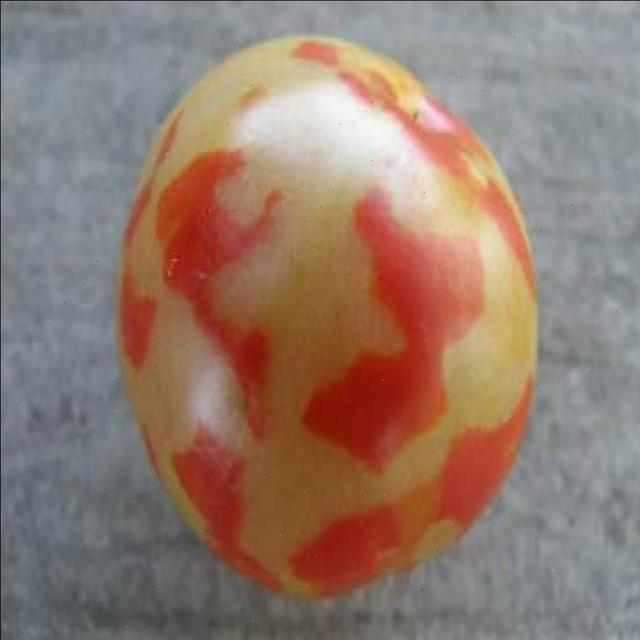Spotted wilt Virus Fruit: (76, 20, 358, 398)
